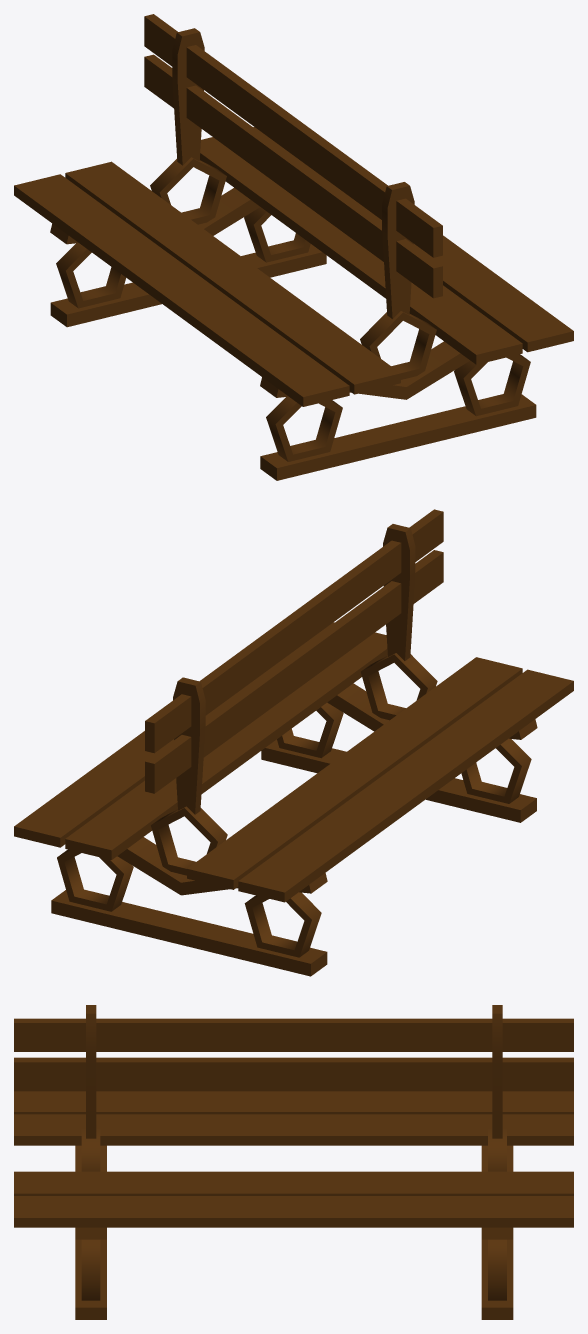
Rendered from suoliukas #2.fbx.
3 renders of one model, top to bottom at view 1: azimuth 30°, elevation 25°; view 2: azimuth 150°, elevation 25°; view 3: azimuth 270°, elevation 25°, orthographic. The views are drawn at different scales.
Parts seen in each view (by area): view 1: Bench_B; view 2: Bench_B; view 3: Bench_B.
Boxes of the visible parts, x1,y1,x2,y2 form: Bench_B: (14, 14, 573, 480); Bench_B: (14, 509, 573, 976); Bench_B: (14, 1005, 573, 1319).
Bounding box in the file's own units: 136 × 124 × 252.
